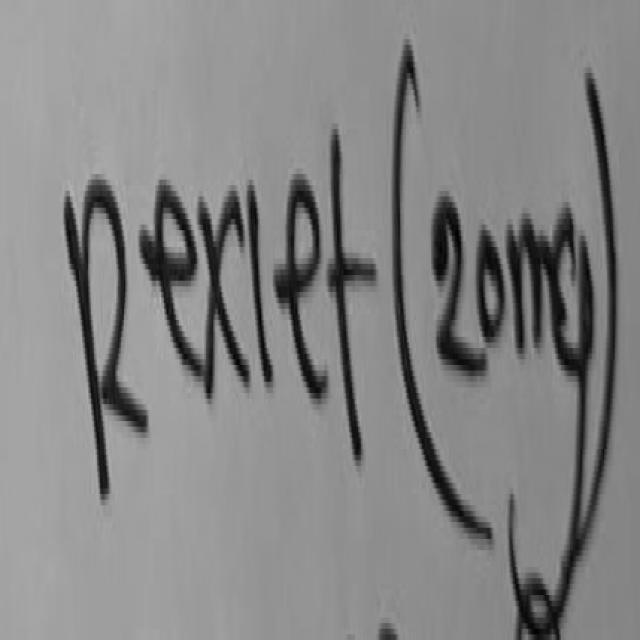0: (477, 225, 506, 340)
2: (433, 196, 486, 368)
R: (65, 180, 148, 491)
e: (274, 174, 328, 396), (139, 180, 201, 373)
g: (521, 213, 594, 640)
l: (248, 180, 272, 379)
m: (505, 211, 560, 348)
t: (328, 129, 378, 458)
x: (198, 191, 253, 396)
